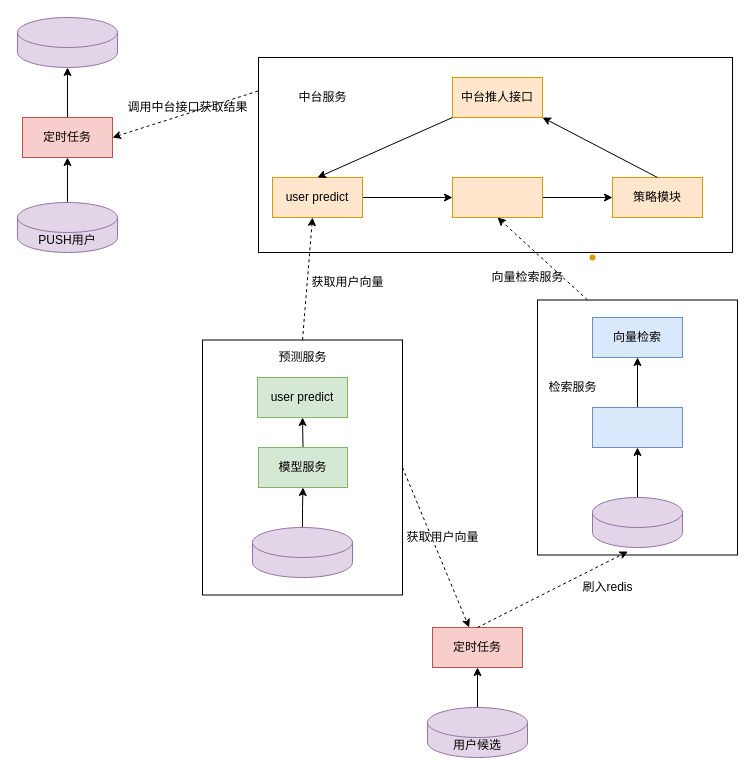
This 755x775 diagram has some shape labels left out. Each missing label, with the centre of its shape:
Loader: (637,427)
召回模块: (497,197)
向量 redis: (637,522)
模型文件: (302,552)
结果用户: (67,42)
